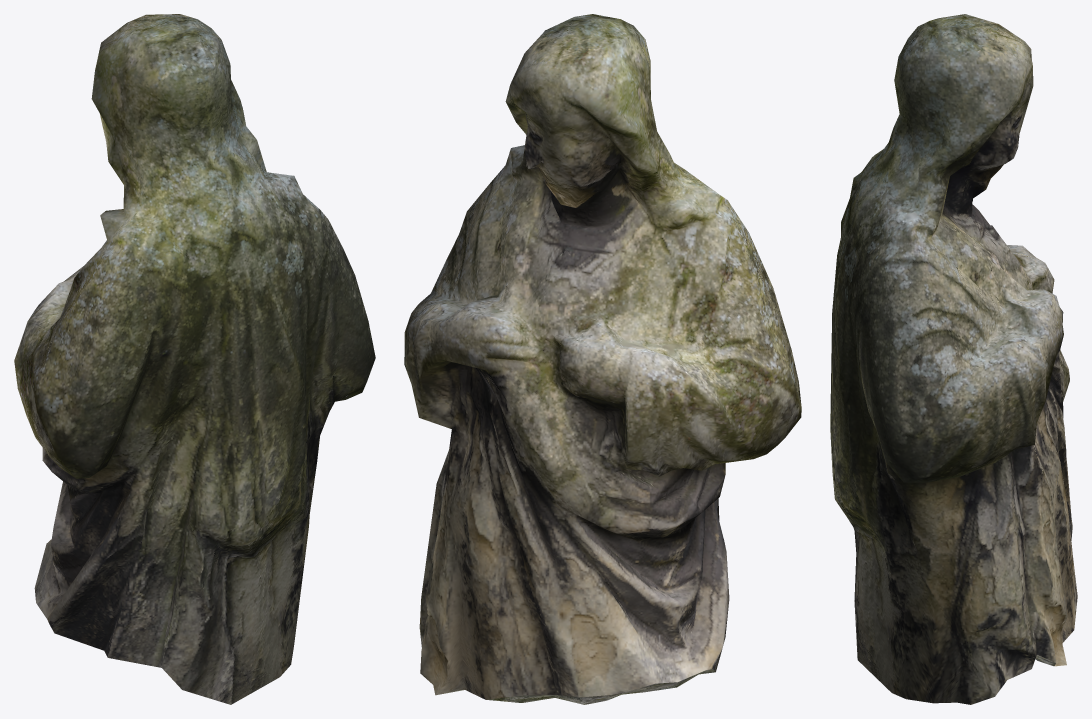
Rendered from SM_GraveSculpture_01_06.fbx.
3 renders of one model, left to right at view 1: azimuth 30°, elevation 25°; view 2: azimuth 150°, elevation 25°; view 3: azimuth 270°, elevation 25°, orthographic. The views are drawn at different scales.
Parts seen in each view (by area): view 1: sm_GraveSculpture_01_06_LOD0; view 2: sm_GraveSculpture_01_06_LOD0; view 3: sm_GraveSculpture_01_06_LOD0.
Boxes of the visible parts, x1,y1,x2,y2 form: sm_GraveSculpture_01_06_LOD0: [14, 14, 375, 704]; sm_GraveSculpture_01_06_LOD0: [404, 14, 801, 704]; sm_GraveSculpture_01_06_LOD0: [830, 14, 1077, 704].
Size of the model in its own units: 45.42 by 70.18 by 128.
